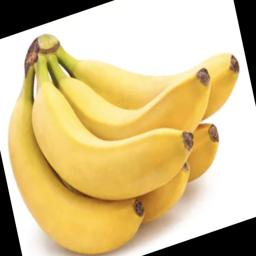Banana Fresh: (0, 4, 256, 256)
